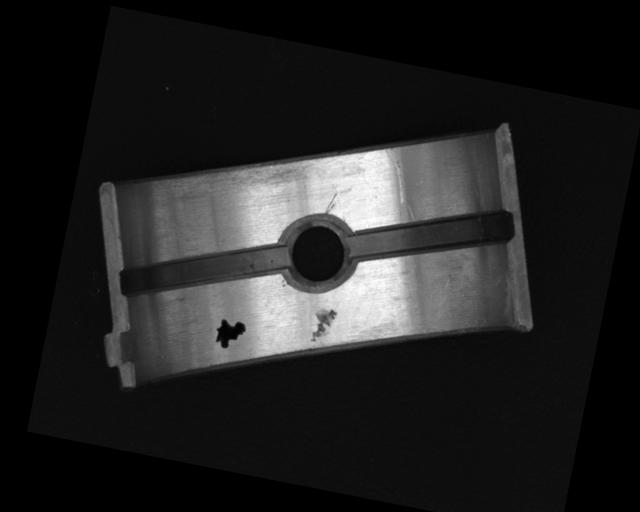blot: (213, 317, 247, 351)
bruise: (309, 305, 337, 345)
gap: (118, 215, 289, 323), (347, 185, 513, 284)
hole: (275, 210, 358, 296)
nick: (376, 146, 415, 204), (322, 190, 338, 217)
scratch: (164, 134, 312, 214)
